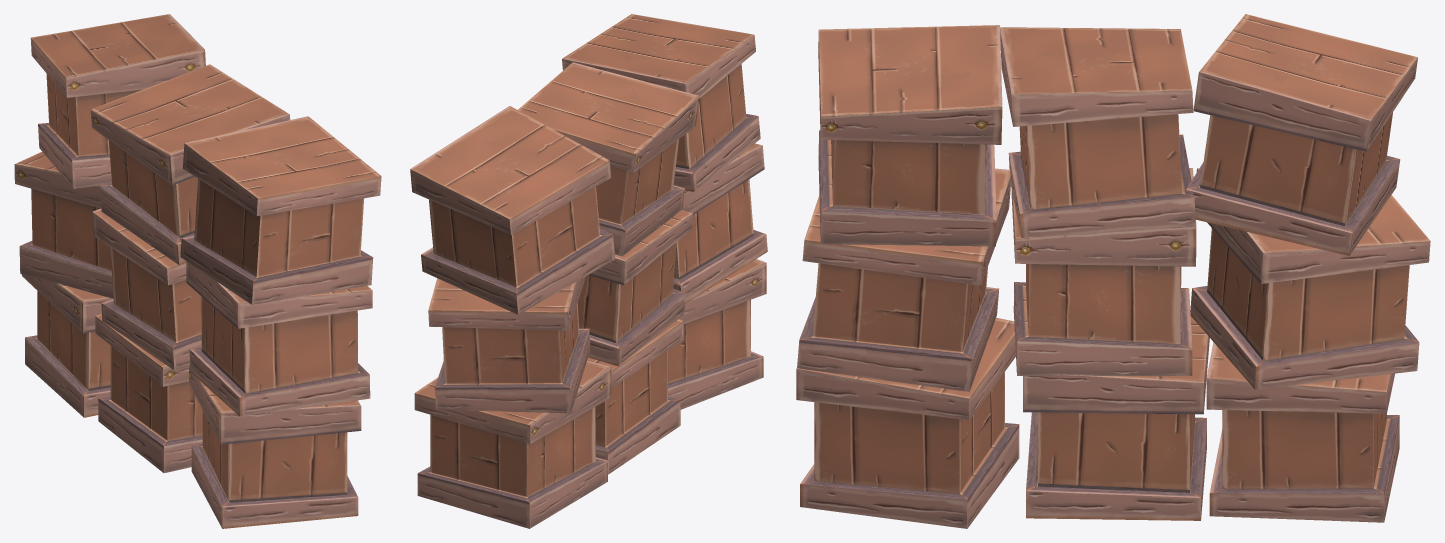
Rendered from StackBox.fbx.
The picture shows the model from 3 angles, left to right: view 1: azimuth 30°, elevation 25°; view 2: azimuth 150°, elevation 25°; view 3: azimuth 270°, elevation 25°; orthographic projection. The views are drawn at different scales.
Visible parts, largest first — view 1: polySurface65; view 2: polySurface65; view 3: polySurface65.
Part boxes in pixels (x1,y1,x2,y2): polySurface65: (14, 14, 381, 528); polySurface65: (410, 14, 767, 528); polySurface65: (796, 14, 1430, 528).
Bounding box in the file's own units: 260 × 533 × 699.
1 material, 1 textured.
